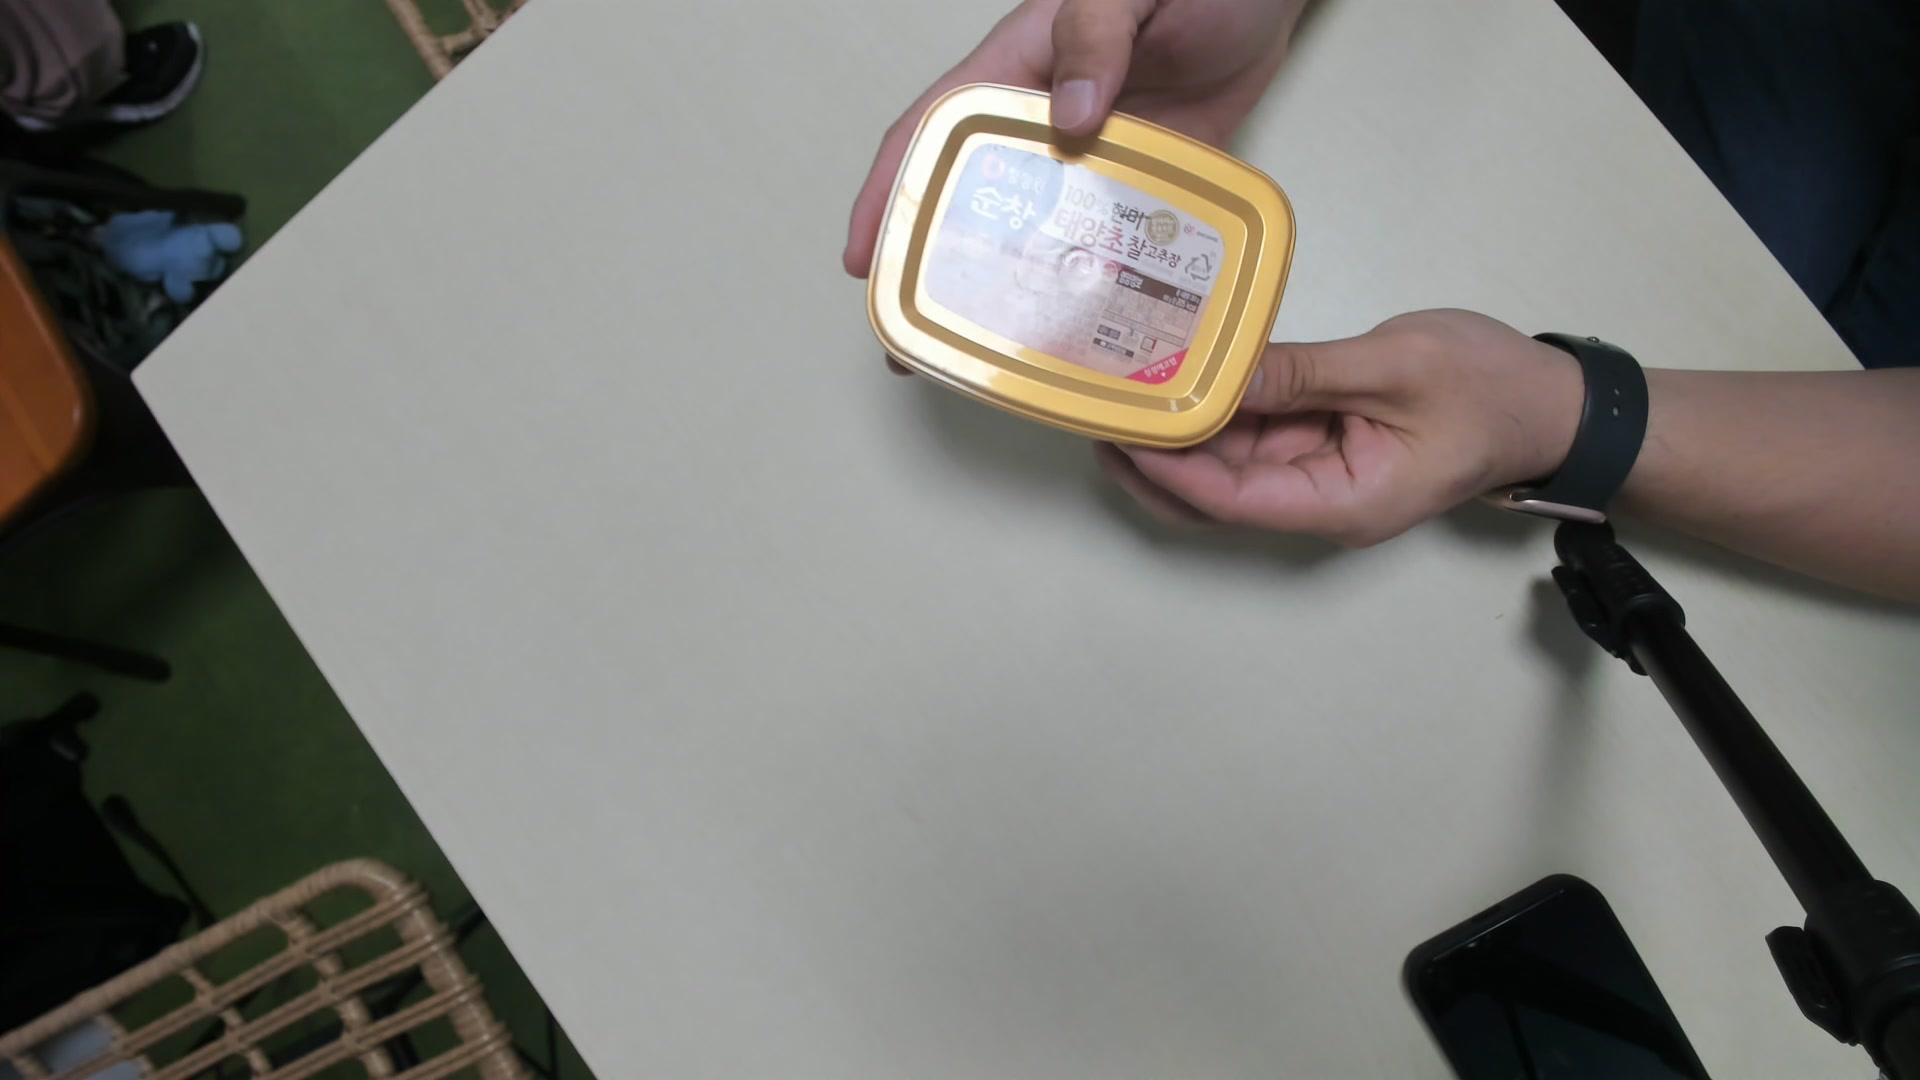OtherSauceDressing_200-299g_NonHalal_NonHealthy: (861, 76, 1290, 451)
